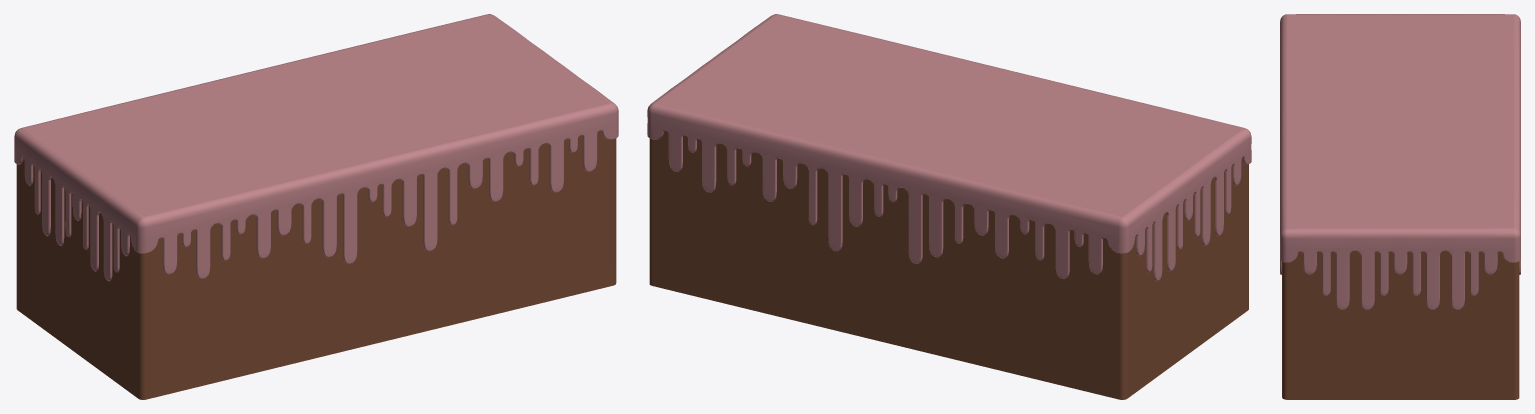
The model's file is SM_Mountain_1.fbx.
3 views of the same model, side by side, from view 1: azimuth 30°, elevation 25°; view 2: azimuth 150°, elevation 25°; view 3: azimuth 270°, elevation 25° (orthographic). The views are drawn at different scales.
Parts seen in each view (by area): view 1: SM_Mountain1; view 2: SM_Mountain1; view 3: SM_Mountain1.
Part boxes in pixels (bbox=[...]): SM_Mountain1: bbox=[14, 14, 618, 399]; SM_Mountain1: bbox=[647, 14, 1251, 399]; SM_Mountain1: bbox=[1280, 14, 1520, 399].
Bounding box in the file's own units: 6094 × 2187 × 2821.
